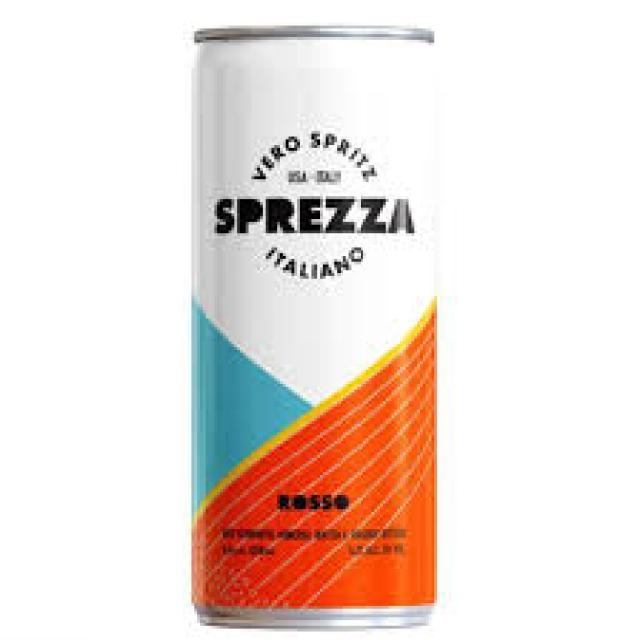Cans: (168, 9, 452, 637)
